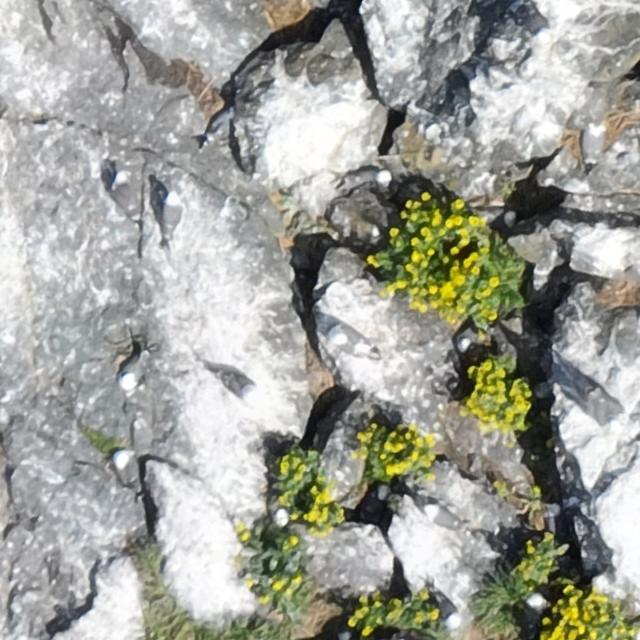umineko: (323, 318, 383, 361), (118, 341, 154, 392), (427, 585, 464, 632), (113, 448, 142, 496), (417, 500, 461, 530), (581, 120, 606, 172), (110, 169, 133, 216), (216, 371, 256, 396), (161, 192, 180, 234), (523, 594, 543, 626), (365, 170, 389, 188)
